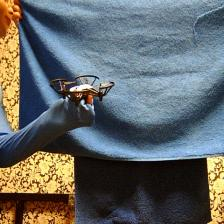drone: (50, 73, 116, 107)
